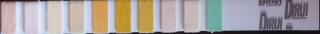color 1: (1, 3, 14, 32)
color 10: (208, 1, 220, 28)
color 2: (26, 3, 37, 32)
color 3: (48, 2, 60, 33)
color 4: (71, 2, 83, 32)
color 5: (94, 2, 106, 32)
color 6: (117, 2, 129, 31)
color 7: (139, 2, 151, 30)
color 8: (162, 2, 174, 31)
color 9: (185, 2, 197, 30)
